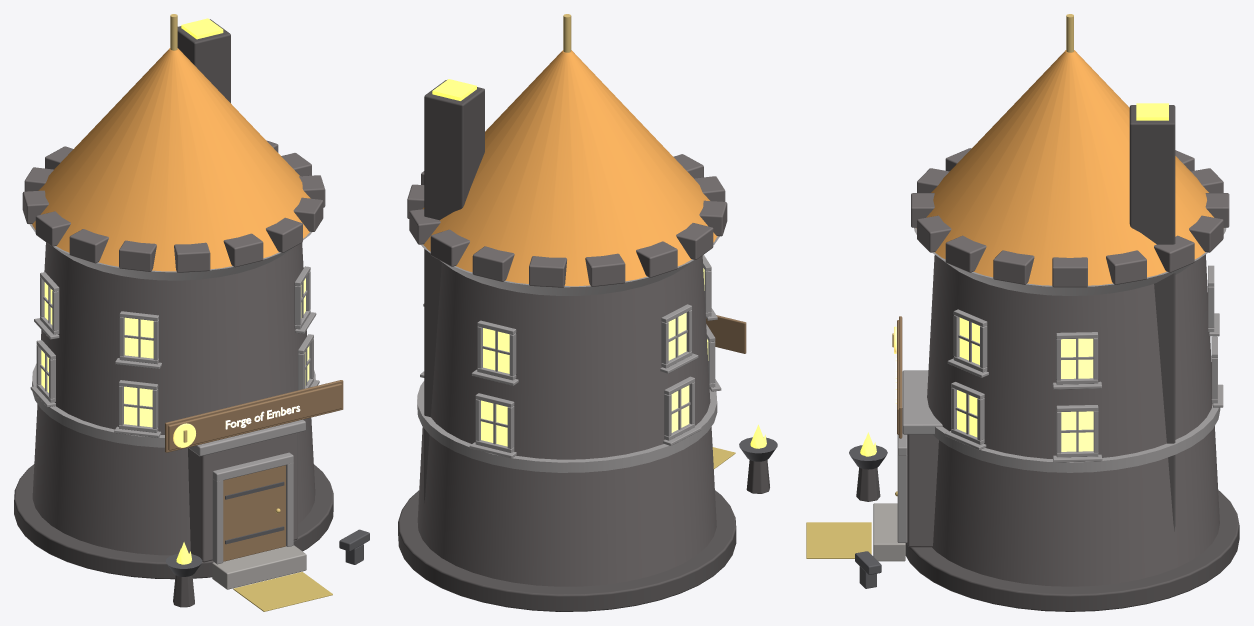
Rendered from ember_forge.fbx.
3 views of the same model, side by side, from view 1: azimuth 30°, elevation 25°; view 2: azimuth 150°, elevation 25°; view 3: azimuth 270°, elevation 25° (orthographic). The views are drawn at different scales.
Parts seen in each view (by area): view 1: ember_forge; view 2: ember_forge; view 3: ember_forge.
Boxes of the visible parts, box(x1,y1,x2,y2) form: ember_forge: box(14, 14, 369, 611); ember_forge: box(398, 14, 777, 611); ember_forge: box(806, 14, 1239, 611).
Bounding box in the file's own units: 10.4 × 17.81 × 13.3.
